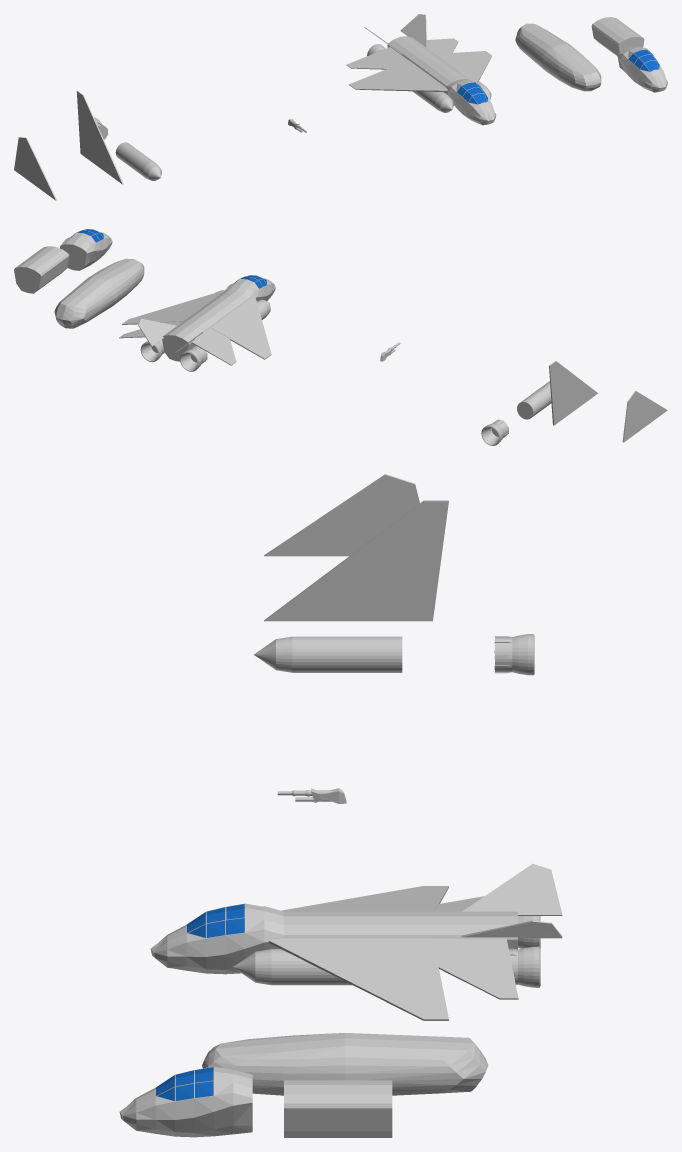
File: kitbash.obj
3 views of the same model, one above another, from view 1: azimuth 30°, elevation 25°; view 2: azimuth 150°, elevation 25°; view 3: azimuth 270°, elevation 25° (orthographic). The views are drawn at different scales.
Parts seen in each view (by area): view 1: hull.001, wing.002, wing, hull.002, cockpit, cockpit.001, hull, wing.001, wing.005, Cylinder, wing.003, Cylinder.001 (+2 smaller); view 2: hull.001, hull.002, wing.002, wing, hull, cockpit, wing.001, wing.005, wing.003, cockpit.001, Cylinder, wing.007 (+3 smaller); view 3: hull.001, wing, wing.005, cockpit, cockpit.001, hull, hull.002, wing.001, Cylinder, wing.004, wing.006, Cylinder.002 (+4 smaller).
Boxes of the visible parts, x1=… form: hull.001: x1=515, y1=23, x2=601, y2=91; wing.002: x1=349, y1=60, x2=447, y2=92; wing: x1=76, y1=90, x2=123, y2=184; hull.002: x1=387, y1=36, x2=469, y2=93; cockpit: x1=617, y1=46, x2=667, y2=92; cockpit.001: x1=446, y1=79, x2=496, y2=125; hull: x1=591, y1=17, x2=644, y2=56; wing.001: x1=14, y1=137, x2=57, y2=200; wing.005: x1=435, y1=51, x2=491, y2=82; Cylinder: x1=115, y1=142, x2=161, y2=180; wing.003: x1=346, y1=47, x2=408, y2=69; Cylinder.001: x1=412, y1=91, x2=453, y2=112; hull.001: x1=54, y1=258, x2=144, y2=328; hull.002: x1=162, y1=290, x2=249, y2=361; wing.002: x1=211, y1=297, x2=271, y2=359; wing: x1=549, y1=361, x2=598, y2=425; hull: x1=14, y1=246, x2=69, y2=293; cockpit: x1=60, y1=229, x2=112, y2=270; wing.001: x1=622, y1=390, x2=667, y2=442; wing.005: x1=122, y1=290, x2=224, y2=324; wing.003: x1=192, y1=328, x2=236, y2=365; cockpit.001: x1=224, y1=275, x2=275, y2=301; Cylinder: x1=517, y1=381, x2=551, y2=419; wing.007: x1=138, y1=318, x2=176, y2=346; hull.001: x1=202, y1=1033, x2=488, y2=1095; wing: x1=264, y1=500, x2=448, y2=621; wing.005: x1=268, y1=938, x2=448, y2=1020; cockpit: x1=119, y1=1066, x2=252, y2=1137; cockpit.001: x1=150, y1=903, x2=283, y2=974; hull: x1=284, y1=1080, x2=392, y2=1137; hull.002: x1=284, y1=911, x2=517, y2=969; wing.001: x1=264, y1=474, x2=419, y2=556; Cylinder: x1=254, y1=636, x2=402, y2=672; wing.004: x1=433, y1=938, x2=518, y2=999; wing.006: x1=462, y1=863, x2=562, y2=915; Cylinder.002: x1=233, y1=949, x2=352, y2=985.
Size of the model in its own units: 50.21 by 5.84 by 16.23.
